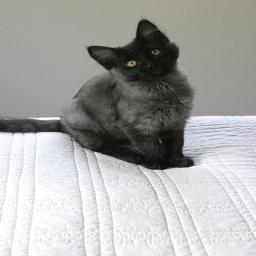catnose: (143, 60, 159, 70)
